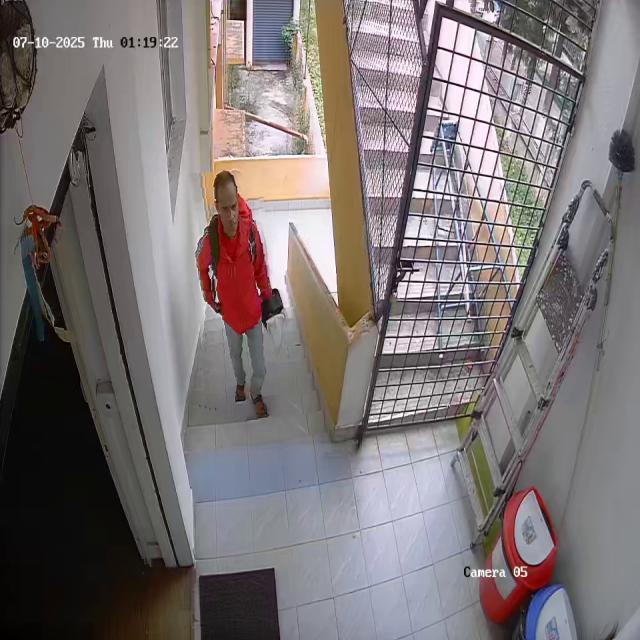person: (192, 169, 277, 422)
